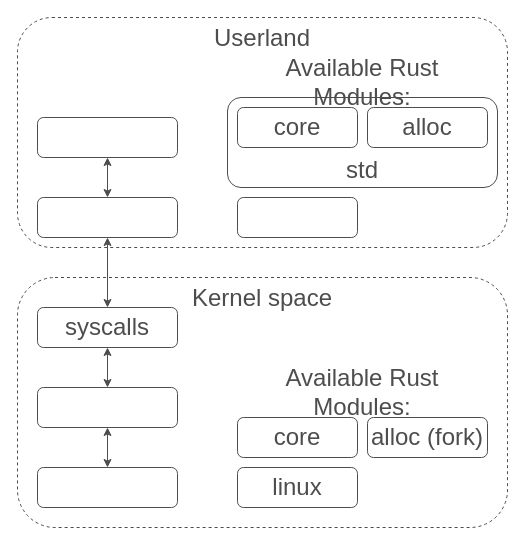
The diagram is 525 pixels wide and 545 high, and some of its shapes have lost their labels. Here are the shapes that lost their labels. From the top down, the centre of each, then its label:
At [107,137]: "Applications".
At [107,217]: "glibc".
At [297,217]: "crates.io".
At [107,407]: "Linux Kernel".
At [107,487]: "Hardware".
